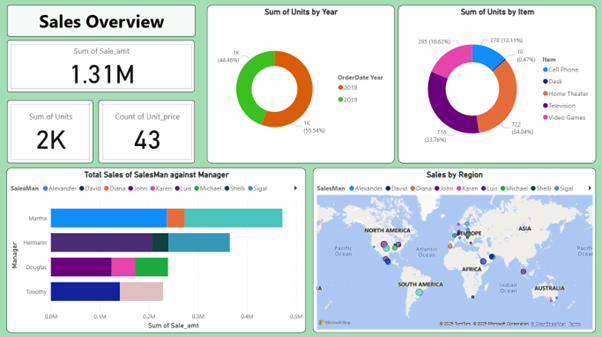

The dashboard page shown, as its layout file describes it:
{"tool":"powerbi","page":{"name":"Page 1","canvas":[1280,720],"ordinal":0},"visuals":[{"type":"donutChart","fields":{"Category":["SaleData.Item","SaleData.OrderDate.Variation.Date Hierarchy.Year"],"Y":["SaleData.Units"]},"box":[843.8,15.8,417.6,334.1],"z":0},{"type":"map","title":"Sales by Region","fields":{"Series":["SaleData.SalesMan"],"Size":["SaleData.Sale_amt"],"Category":["SaleData.Sale_amt"]},"box":[663.8,360,597.6,348.5],"z":1000},{"type":"barChart","title":"Total Sales of SalesMan against Manager","fields":{"Category":["SaleData.Manager"],"Series":["SaleData.SalesMan"],"Y":["SaleData.Sale_amt"]},"box":[17.3,360,632.2,348.5],"z":2000},{"type":"donutChart","fields":{"Category":["SaleData.OrderDate.Variation.Date Hierarchy.Year","SaleData.OrderDate.Variation.Date Hierarchy.Quarter","SaleData.OrderDate.Variation.Date Hierarchy.Month","SaleData.OrderDate.Variation.Date Hierarchy.Day","SaleData.Item","SaleData.Region"],"Y":["SaleData.Units"]},"box":[440.6,15.8,396,334.1],"z":3000},{"type":"cardVisual","fields":{"Data":["SaleData.Sale_amt"]},"box":[18.7,90.7,396,109.4],"z":4000},{"type":"cardVisual","fields":{"Data":["SaleData.Units"]},"box":[18.7,217.4,181.4,132.5],"z":5000},{"type":"cardVisual","fields":{"Data":["SaleData.Unit_price"]},"box":[211.7,217.4,203,132.5],"z":6000},{"type":"textbox","box":[18.6,16.3,397.7,59.3],"z":7000}]}

Visuals, with their boxes in screenshot pixels (x1, y1, x2, y2), scaled from the page's 1280x720 canvas onto the 602x337 screenshot:
donutChart - SaleData.Item x SaleData.OrderDate.Variation.Date Hierarchy.Year: [x1=397, y1=7, x2=593, y2=164]
"Sales by Region" map: [x1=312, y1=168, x2=593, y2=332]
"Total Sales of SalesMan against Manager" barChart: [x1=8, y1=168, x2=305, y2=332]
donutChart - SaleData.OrderDate.Variation.Date Hierarchy.Year x SaleData.OrderDate.Variation.Date Hierarchy.Quarter: [x1=207, y1=7, x2=393, y2=164]
cardVisual - SaleData.Sale_amt: [x1=9, y1=42, x2=195, y2=94]
cardVisual - SaleData.Units: [x1=9, y1=102, x2=94, y2=164]
cardVisual - SaleData.Unit_price: [x1=100, y1=102, x2=195, y2=164]
textbox: [x1=9, y1=8, x2=196, y2=35]
